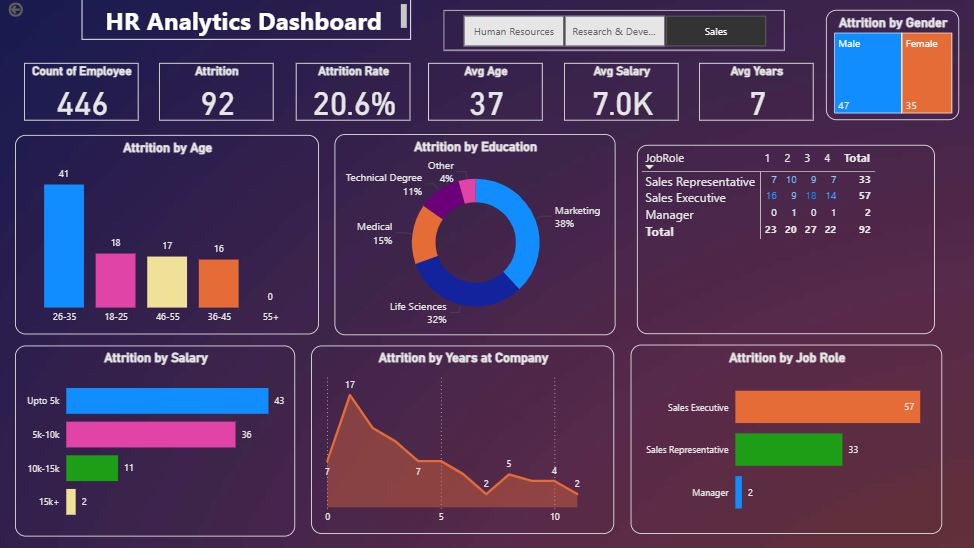

What the dashboard file says about the page in this screenshot:
{"tool":"powerbi","page":{"name":"Page 1","canvas":[1280,720],"ordinal":0},"visuals":[{"type":"card","title":"Count of Employee","fields":{"Values":["CountNonNull(HR_Analytics.EmpID)"]},"box":[35.3,84,149.5,75.6],"z":0},{"type":"card","title":"Attrition","fields":{"Values":["Sum(HR_Analytics.AttritionCount)"]},"box":[211.7,84,149.5,75.6],"z":1000},{"type":"card","title":"Attrition Rate","fields":{"Values":["HR_Analytics.AttritionRate"]},"box":[391.4,84,149.5,75.6],"z":2000},{"type":"card","title":"Avg Age","fields":{"Values":["Avg(HR_Analytics.Age)"]},"box":[564.4,84,149.5,75.6],"z":3000},{"type":"actionButton","box":[10.1,0,100.8,26.9],"z":4000},{"type":"card","title":"Avg Salary","fields":{"Values":["Avg(HR_Analytics.MonthlyIncome)"]},"box":[742.5,84,149.5,75.6],"z":5000},{"type":"card","title":"Avg Years","fields":{"Values":["Avg(HR_Analytics.YearsAtCompany)"]},"box":[918.9,84,149.5,75.6],"z":6000},{"type":"donutChart","title":"Attrition by Education","fields":{"Y":["Sum(HR_Analytics.AttritionCount)"],"Category":["HR_Analytics.EducationField","HR_Analytics.YearsAtCompany"]},"box":[441.3,176.1,367.4,263],"z":7000},{"type":"columnChart","title":"Attrition by Age","fields":{"Category":["HR_Analytics.AgeGroup"],"Y":["Sum(HR_Analytics.AttritionCount)"]},"box":[23.9,178.3,397.8,260.9],"z":8000},{"type":"pivotTable","fields":{"Rows":["HR_Analytics.JobRole"],"Columns":["HR_Analytics.JobSatisfaction"],"Values":["Sum(HR_Analytics.AttritionCount)"]},"box":[837.6,191.3,389.8,248],"z":9000},{"type":"barChart","title":"Attrition by Salary","fields":{"Category":["HR_Analytics.SalarySlab"],"Y":["Sum(HR_Analytics.AttritionCount)"]},"box":[24.1,453.5,367.1,249.4],"z":10000},{"type":"barChart","title":"Attrition by Job Role","fields":{"Category":["HR_Analytics.JobRole"],"Y":["Sum(HR_Analytics.AttritionCount)"]},"box":[829.1,452.1,408.2,248],"z":11000},{"type":"areaChart","title":"Attrition by Years at Company","fields":{"Category":["HR_Analytics.YearsAtCompany"],"Y":["Sum(HR_Analytics.AttritionCount)"]},"box":[411,453.5,396.9,246.6],"z":12000},{"type":"treemap","title":"Attrition by Gender","fields":{"Group":["HR_Analytics.Gender"],"Values":["Sum(HR_Analytics.AttritionCount)"]},"box":[1085,14.2,174,144.3],"z":13000},{"type":"slicer","fields":{"Values":["HR_Analytics.Department"]},"box":[584.2,14.2,447,53.8],"z":14000},{"type":"textbox","box":[110.3,0,431.4,53.8],"z":15000}]}

Visuals, with their boxes in screenshot pixels (x1, y1, x2, y2), scaled from the page's 1280x720 canvas onto the 974x548 screenshot:
"Count of Employee" card: (27, 64, 141, 121)
"Attrition" card: (161, 64, 275, 121)
"Attrition Rate" card: (298, 64, 412, 121)
"Avg Age" card: (429, 64, 543, 121)
actionButton: (8, 0, 84, 20)
"Avg Salary" card: (565, 64, 679, 121)
"Avg Years" card: (699, 64, 813, 121)
"Attrition by Education" donutChart: (336, 134, 615, 334)
"Attrition by Age" columnChart: (18, 136, 321, 334)
pivotTable - HR_Analytics.JobRole x HR_Analytics.JobSatisfaction: (637, 146, 934, 334)
"Attrition by Salary" barChart: (18, 345, 298, 535)
"Attrition by Job Role" barChart: (631, 344, 942, 533)
"Attrition by Years at Company" areaChart: (313, 345, 615, 533)
"Attrition by Gender" treemap: (826, 11, 958, 121)
slicer - HR_Analytics.Department: (445, 11, 785, 52)
textbox: (84, 0, 412, 41)
